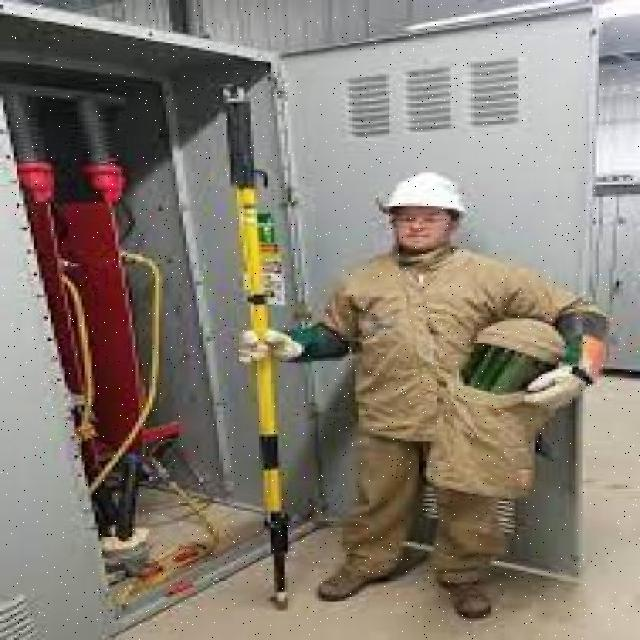Hard_hat: (374, 170, 471, 224)
